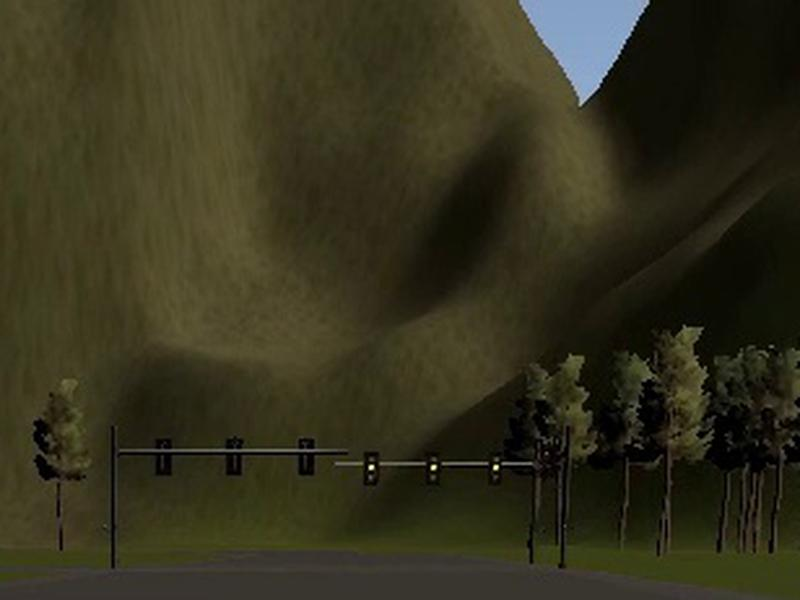Yellow: (363, 452, 379, 486), (425, 453, 439, 485), (488, 454, 502, 486)
